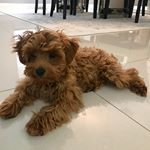puppy: (1, 27, 149, 140)
